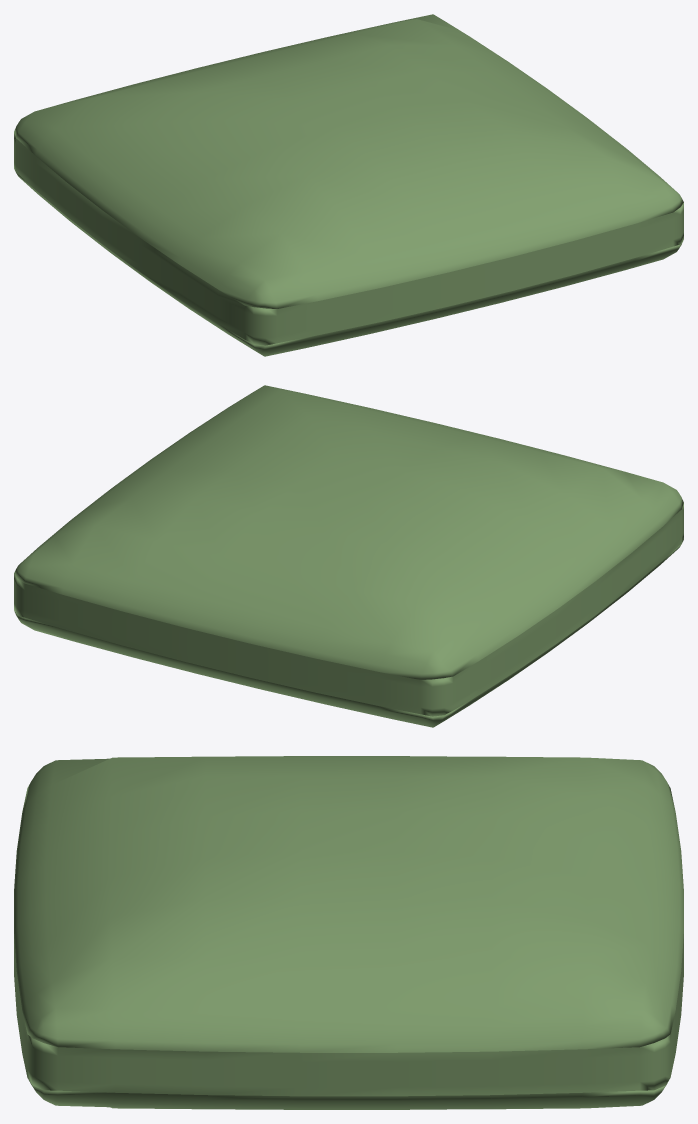
Rendered from cushion__207.glb.
3 renders of one model, top to bottom at view 1: azimuth 30°, elevation 25°; view 2: azimuth 150°, elevation 25°; view 3: azimuth 270°, elevation 25°, orthographic. The views are drawn at different scales.
Parts seen in each view (by area): view 1: cushion__207; view 2: cushion__207; view 3: cushion__207.
Part boxes in pixels (x1,y1,x2,y2): cushion__207: (14,14,683,356); cushion__207: (14,385,683,727); cushion__207: (14,756,683,1109).
Size of the model in its own units: 0.45 by 0.15 by 0.45.
